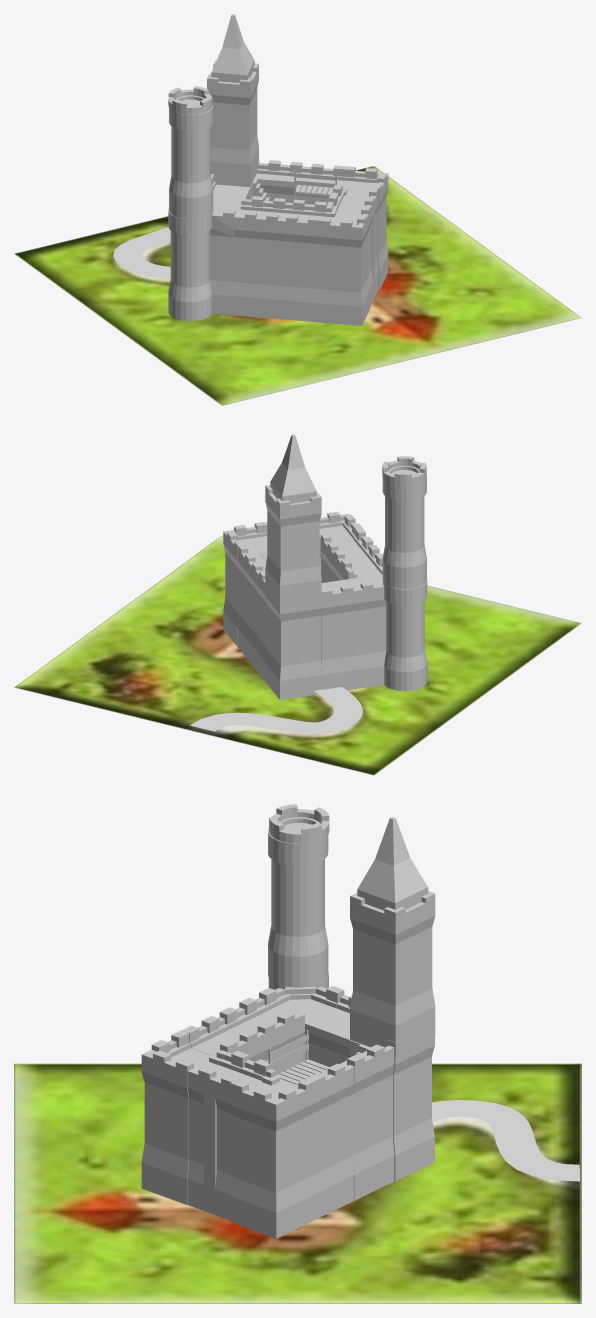
Rendered from tile15.fbx.
3 renders of one model, top to bottom at view 1: azimuth 30°, elevation 25°; view 2: azimuth 150°, elevation 25°; view 3: azimuth 270°, elevation 25°, orthographic. The views are drawn at different scales.
Parts seen in each view (by area): view 1: wall.005; view 2: wall.005; view 3: wall.005.
Boxes of the visible parts, x1,y1,x2,y2 form: wall.005: [14, 14, 581, 405]; wall.005: [14, 434, 581, 775]; wall.005: [14, 804, 581, 1303].
Bounding box in the file's own units: 100 × 68.05 × 100.
